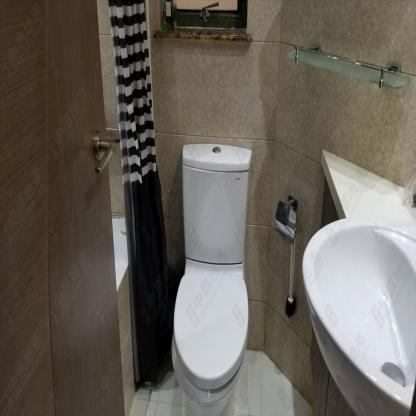Bathtub: (111, 218, 135, 415)
Toilet: (170, 142, 254, 415)
Toilet Sink: (300, 215, 414, 415)
